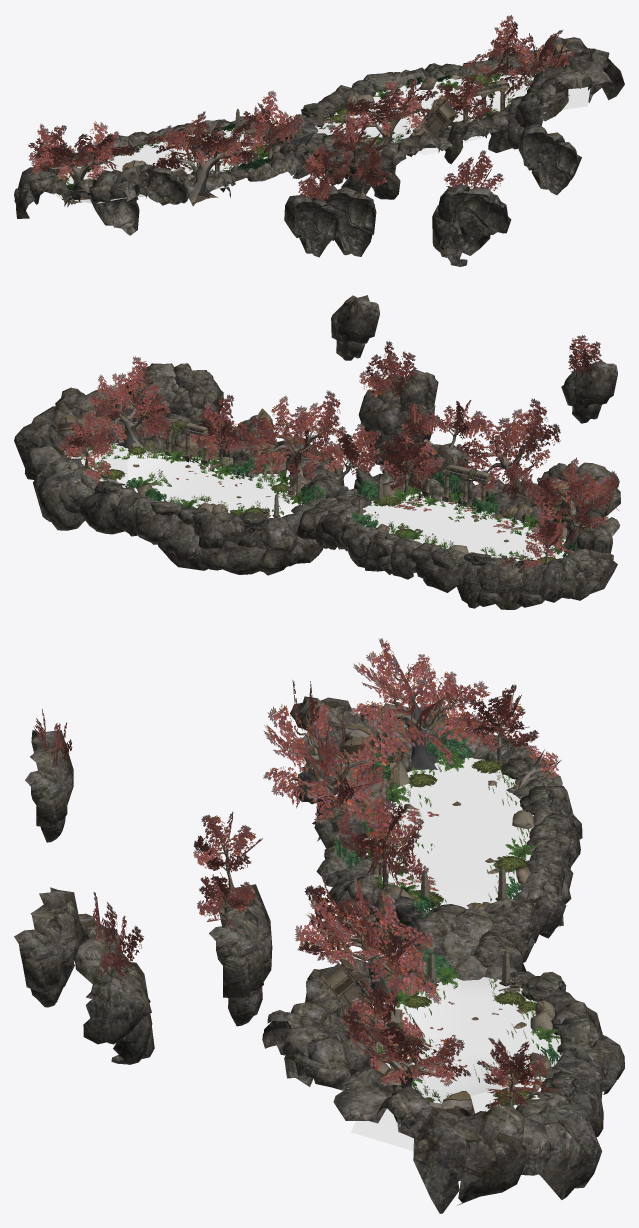
Rendered from stageProb.fbx.
3 renders of one model, top to bottom at view 1: azimuth 30°, elevation 25°; view 2: azimuth 150°, elevation 25°; view 3: azimuth 270°, elevation 25°, orthographic. The views are drawn at different scales.
Visible parts, largest first — view 1: C02_D_03_01, C02_D_03_04, C02_D_03_03, C02_A_01_03, C02_A_01_01, C02_D_02_01, C02_c_01_001, C02_A_01_02, C02_D_02_03, C02_c_01_002, C02_D_03_02; view 2: C02_D_03_01, C02_A_01_01, C02_D_03_03, C02_A_01_03, C02_D_03_04, C02_c_01_001, C02_c_01_002, C02_D_02_01, C02_D_02_03, C02_A_01_02, C02_D_03_02; view 3: C02_D_03_01, C02_A_01_03, C02_D_03_04, C02_D_03_03, C02_A_01_01, C02_c_01_002, C02_c_01_001, C02_D_02_03, C02_D_02_01, C02_A_01_02, C02_D_03_02.
Part boxes in pixels (x1,y1,x2,y2): C02_D_03_01: [290, 36, 624, 199]; C02_D_03_04: [284, 123, 581, 266]; C02_D_03_03: [14, 116, 314, 235]; C02_A_01_03: [28, 90, 305, 189]; C02_A_01_01: [319, 15, 577, 167]; C02_D_02_01: [316, 40, 573, 196]; C02_c_01_001: [315, 72, 590, 155]; C02_A_01_02: [298, 143, 504, 204]; C02_D_02_03: [40, 109, 335, 206]; C02_c_01_002: [54, 128, 267, 203]; C02_D_03_02: [262, 126, 327, 154]; C02_D_03_01: [14, 363, 348, 575]; C02_A_01_01: [59, 356, 383, 515]; C02_D_03_03: [315, 462, 620, 609]; C02_A_01_03: [351, 398, 618, 569]; C02_D_03_04: [331, 295, 617, 479]; C02_c_01_001: [66, 442, 303, 518]; C02_c_01_002: [363, 491, 567, 561]; C02_D_02_01: [58, 386, 426, 517]; C02_D_02_03: [354, 417, 607, 569]; C02_A_01_02: [359, 335, 602, 445]; C02_D_03_02: [285, 488, 371, 539]; C02_D_03_01: [262, 950, 624, 1213]; C02_A_01_03: [263, 638, 558, 919]; C02_D_03_04: [14, 730, 272, 1064]; C02_D_03_03: [290, 696, 582, 962]; C02_A_01_01: [295, 872, 561, 1110]; C02_c_01_002: [366, 757, 533, 912]; C02_c_01_001: [351, 977, 562, 1151]; C02_D_02_03: [218, 664, 561, 909]; C02_D_02_01: [216, 893, 554, 1117]; C02_A_01_02: [34, 709, 262, 977]; C02_D_03_02: [404, 904, 526, 980].
Size of what is drawn, in the model's own units: 107 by 28.82 by 63.5.
